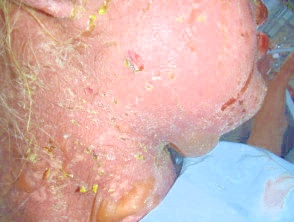SJS-TEN: (0, 119, 173, 222)
